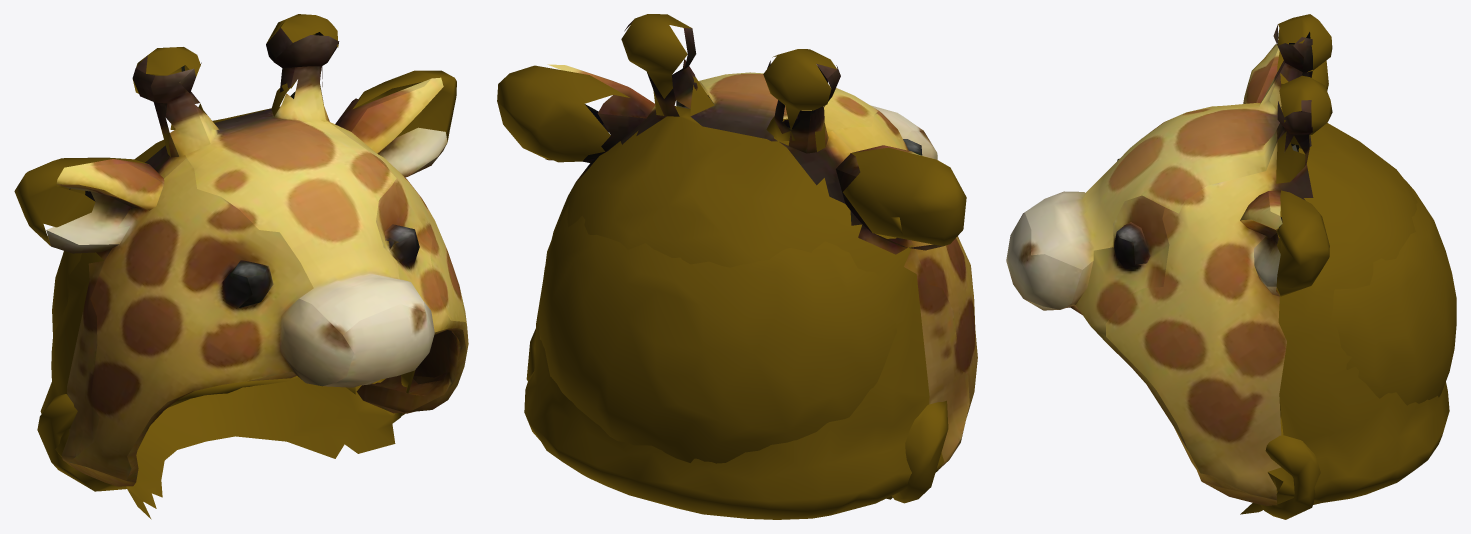
The model's file is giraffe.glb.
3 views of the same model, side by side, from view 1: azimuth 30°, elevation 25°; view 2: azimuth 150°, elevation 25°; view 3: azimuth 270°, elevation 25° (orthographic). The views are drawn at different scales.
Parts seen in each view (by area): view 1: geometry_0, HoodAnatomicalLining; view 2: geometry_0, HoodAnatomicalLining; view 3: geometry_0, HoodAnatomicalLining.
Part boxes in pixels (box(x1,y1,x2,y2)): geometry_0: box(14, 14, 468, 486); HoodAnatomicalLining: box(37, 251, 415, 519); geometry_0: box(497, 14, 977, 519); HoodAnatomicalLining: box(526, 118, 948, 503); geometry_0: box(1006, 14, 1449, 505); HoodAnatomicalLining: box(1240, 148, 1456, 519).
Bounding box in the file's own units: 0.5774 × 0.5493 × 0.532.
Materials: 2 (1 with a texture image).
